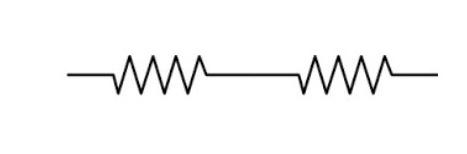resistor: (97, 47, 227, 114), (274, 44, 404, 98)
